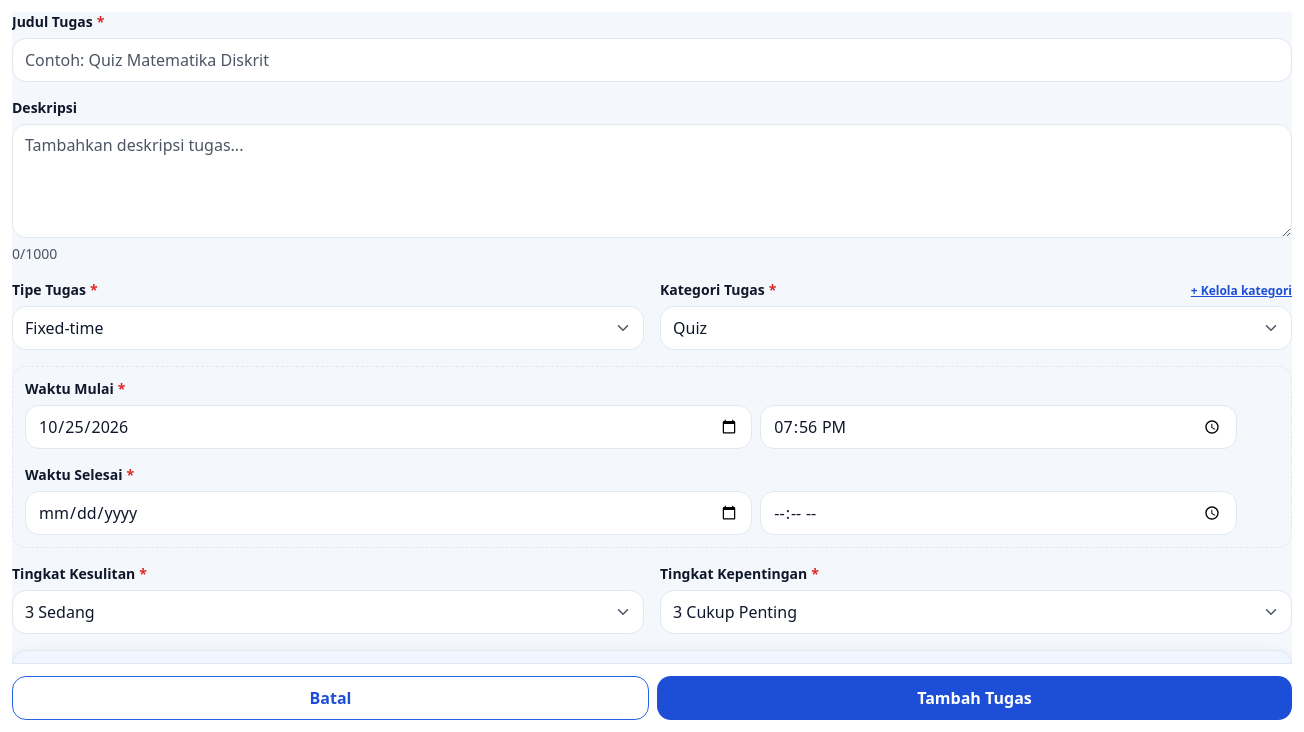
TaskForm › menampilkan field waktu sesuai tipe tugas
The image size is (1304, 732).
Check: the date field named "Waktu Mulai — tanggal" is shown, box [25,405,752,449]
Check: the date field named "Waktu Selesai — tanggal" is shown, box [25,491,752,535]
Select "Deadline" in the dropdown labelled "Tipe Tugas*" at coordinates (328, 328), box [12,306,644,350]
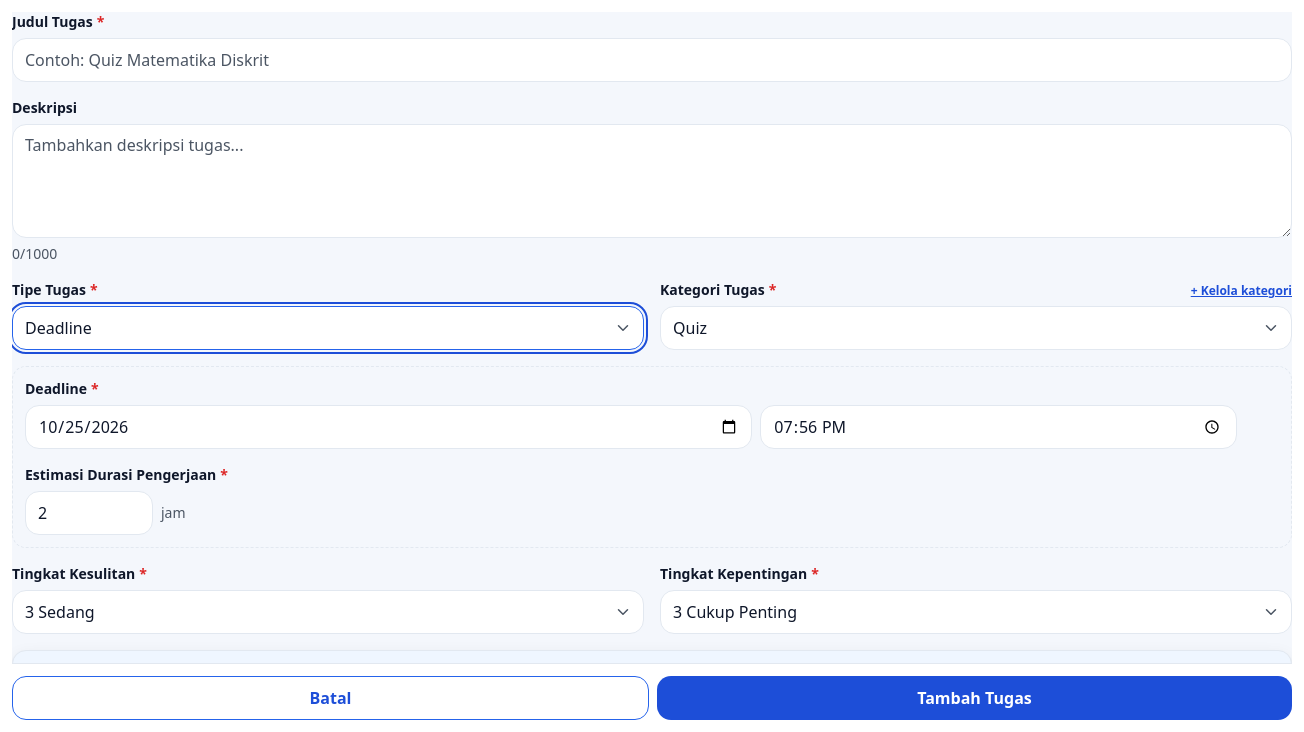
Check: the date field named "Deadline — tanggal" is shown, box [25,405,752,449]
Check: the number field labelled "Estimasi Durasi Pengerjaan*" is shown, box [25,491,153,535]
Select "Routine" in the dropdown labelled "Tipe Tugas*" at coordinates (328, 328), box [12,306,644,350]
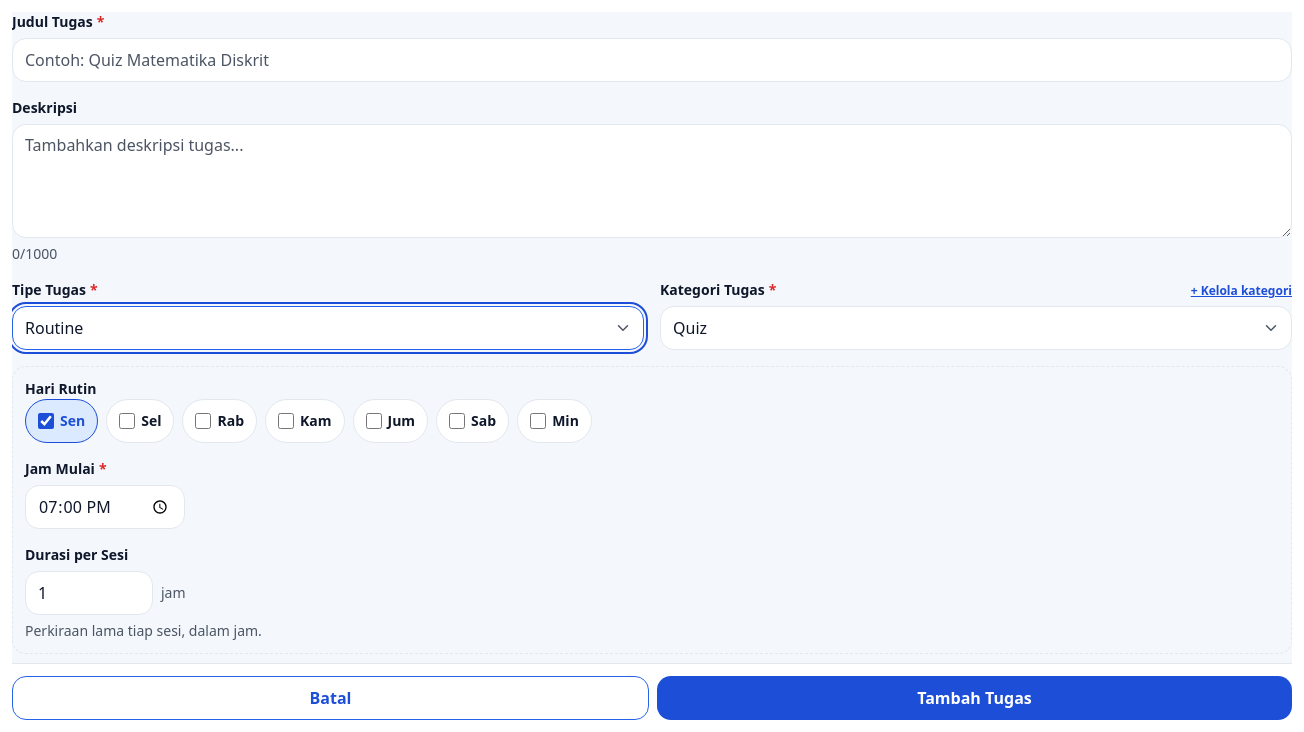
Check: the text "Hari Rutin" is shown, box [25,379,96,399]
Check: the checkbox named "Senin" is shown, box [38,413,54,429]
Check: the time field labelled "Jam Mulai*" is shown, box [25,485,185,529]
